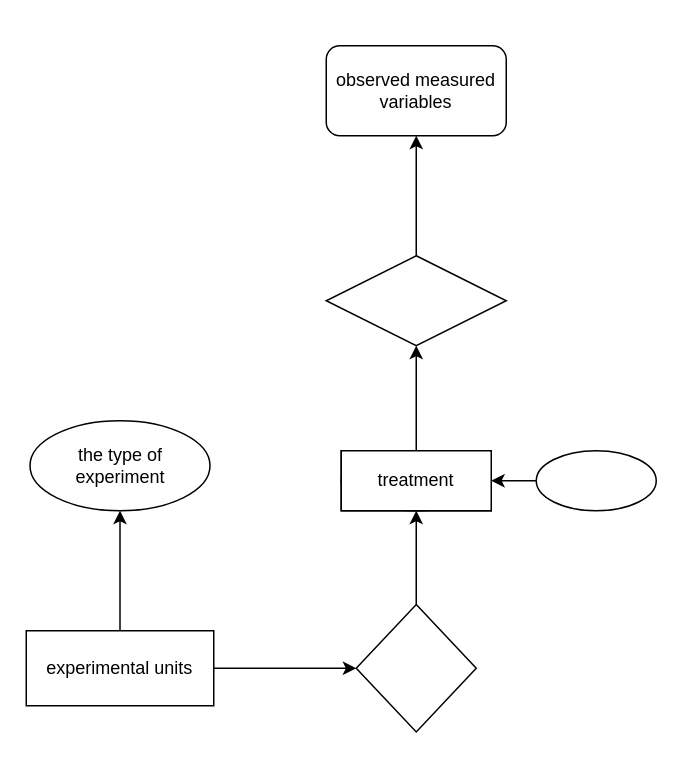
Some shapes in this 683 by 758 pixel diagram are drawn without their labels. Here are the shapes that lost their labels. From the top down, the centre of each, then its label:
the point at 415,300: effect
the point at 595,480: level
the point at 415,667: allocate
